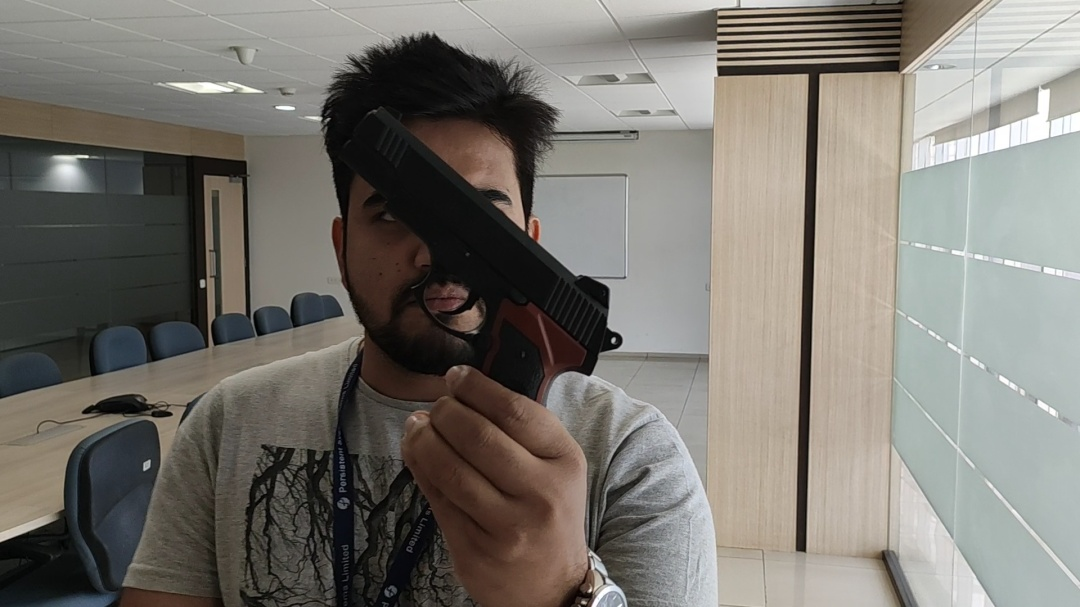gun: (345, 107, 623, 410)
